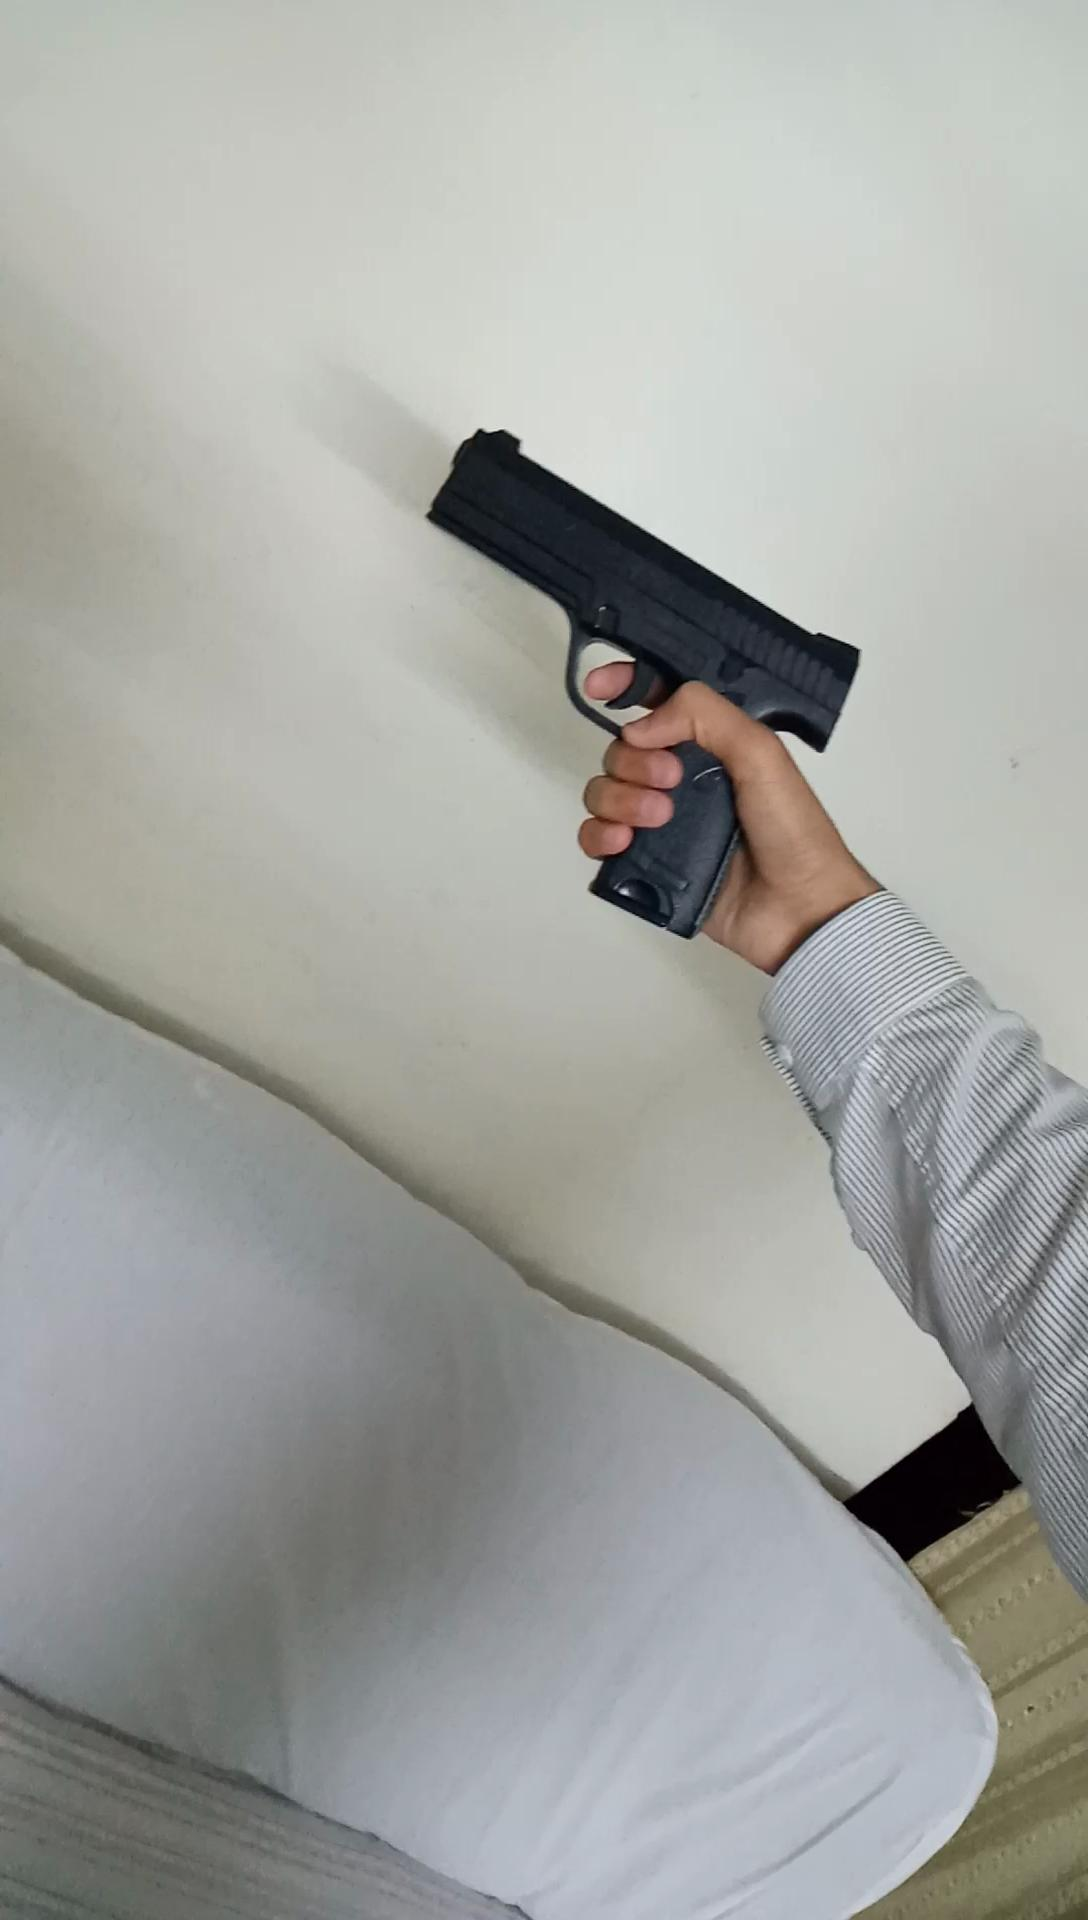weapon: (415, 415, 881, 953)
